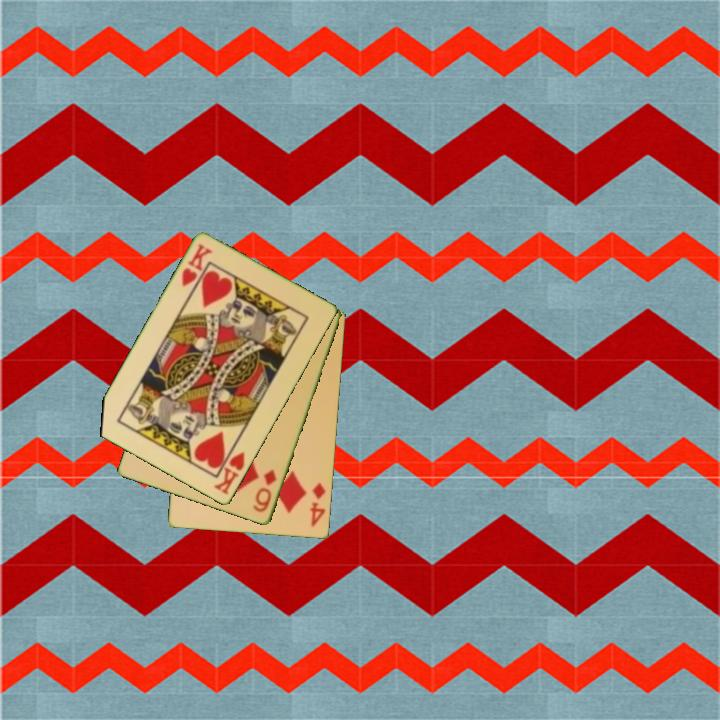4d: (306, 479, 329, 530)
6d: (250, 466, 280, 516)
Kh: (210, 441, 248, 498), (178, 240, 216, 290)
